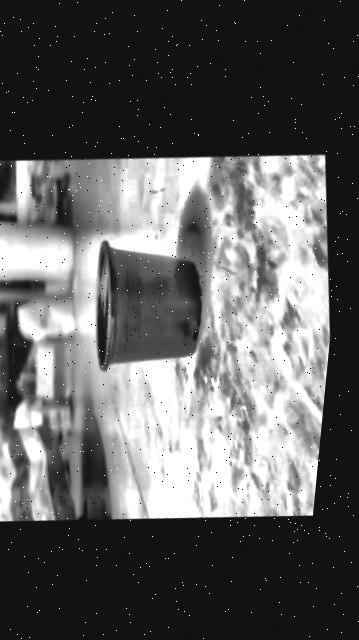pot: (77, 229, 212, 383)
